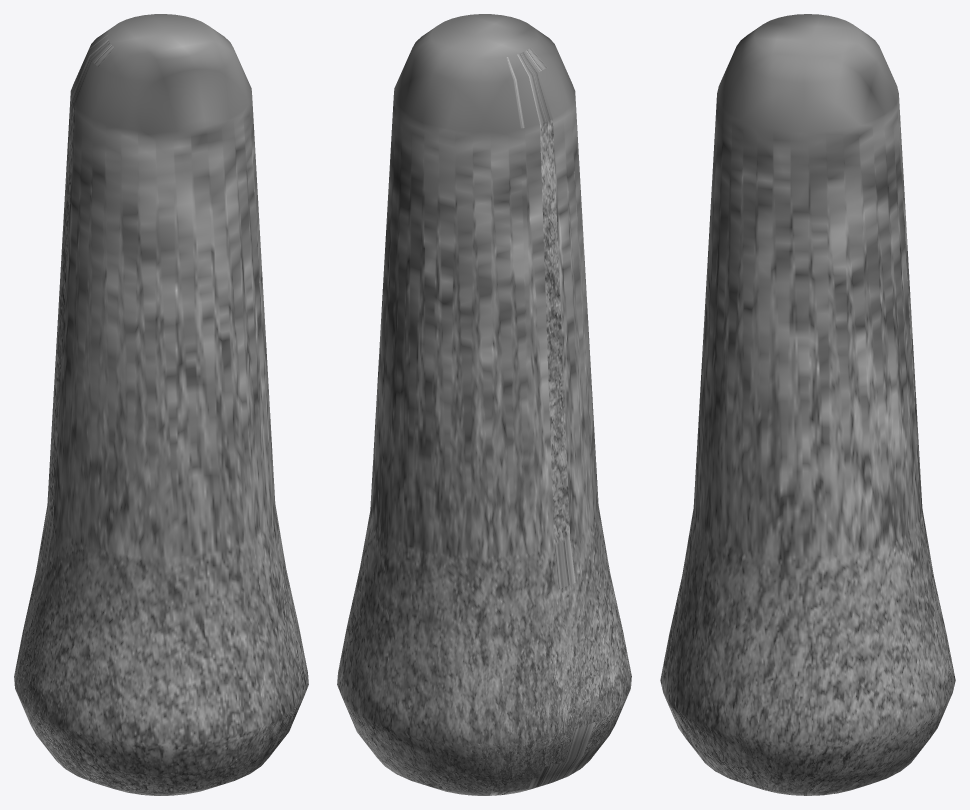
The model's file is pilon.fbx.
3 views of the same model, side by side, from view 1: azimuth 30°, elevation 25°; view 2: azimuth 150°, elevation 25°; view 3: azimuth 270°, elevation 25° (orthographic).
Parts seen in each view (by area): view 1: Cylinder; view 2: Cylinder; view 3: Cylinder.
Boxes of the visible parts, box(x1,y1,x2,y2) form: Cylinder: box(14, 14, 308, 795); Cylinder: box(337, 14, 631, 795); Cylinder: box(660, 14, 955, 795).
Bounding box in the file's own units: 133 × 361 × 133.
Materials: 1 (1 with a texture image).
